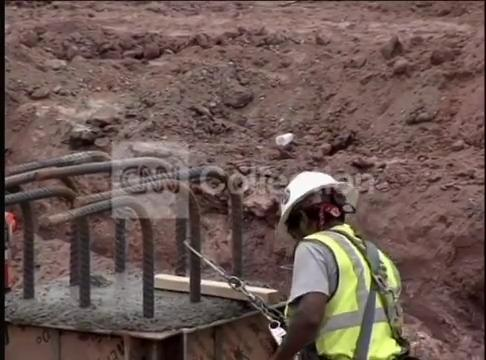Helmet: (275, 161, 349, 222)
Person: (278, 155, 442, 360)
Safety Vest: (300, 244, 401, 360)
